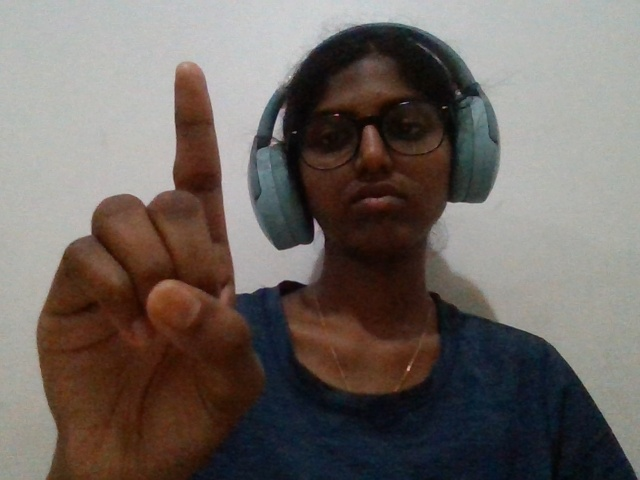D: (10, 35, 295, 475)
